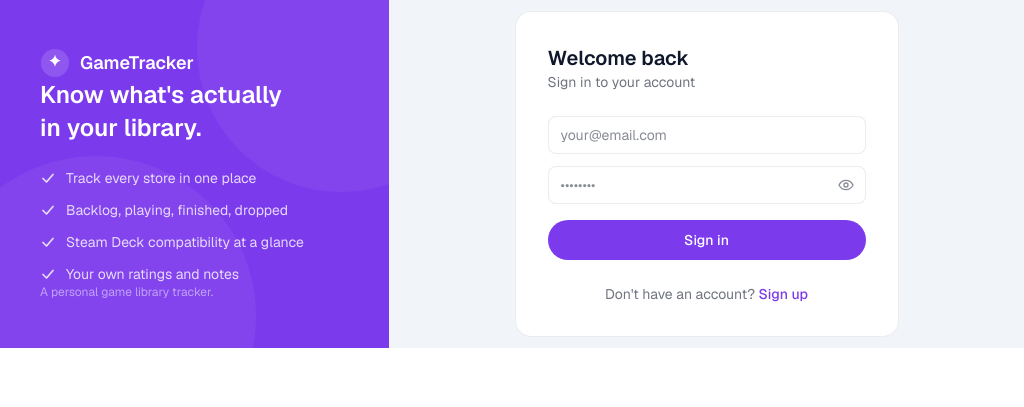
Test: SignIn Form › validates required fields
The image size is (1024, 407).
Note: Submit without filling form
Click the button "Sign in": (706, 240) [548, 220, 866, 260]
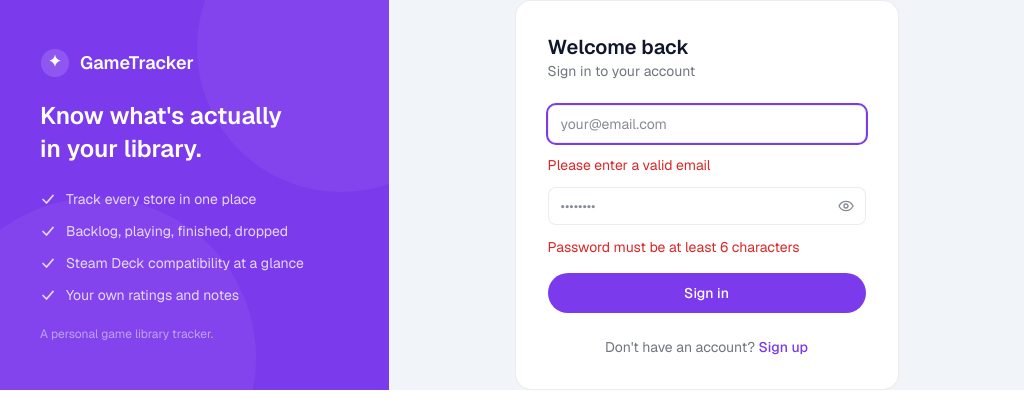
Now the text "Please enter a valid email" is shown, box [548, 156, 710, 174]
Now the text "Password must be at least 6 characters" is shown, box [548, 238, 800, 256]
